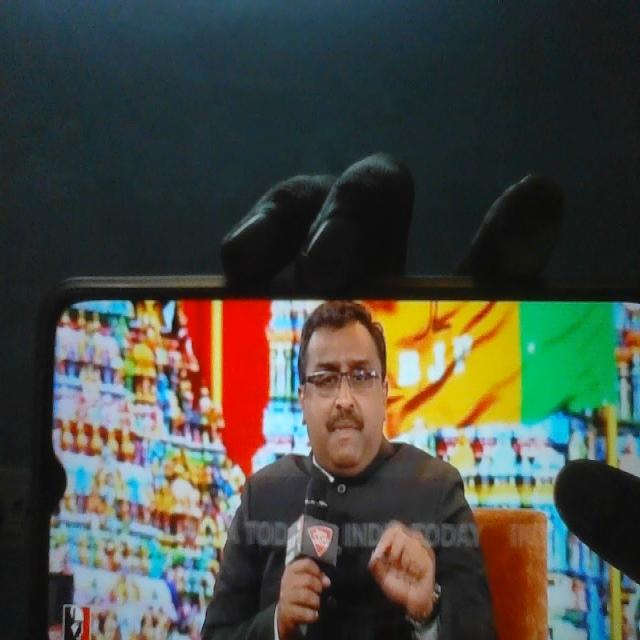fake: (289, 267, 403, 481)
